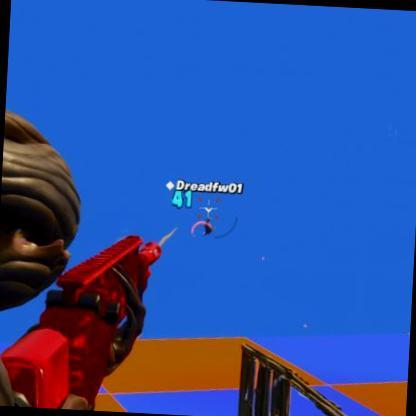person: (200, 216, 214, 237)
